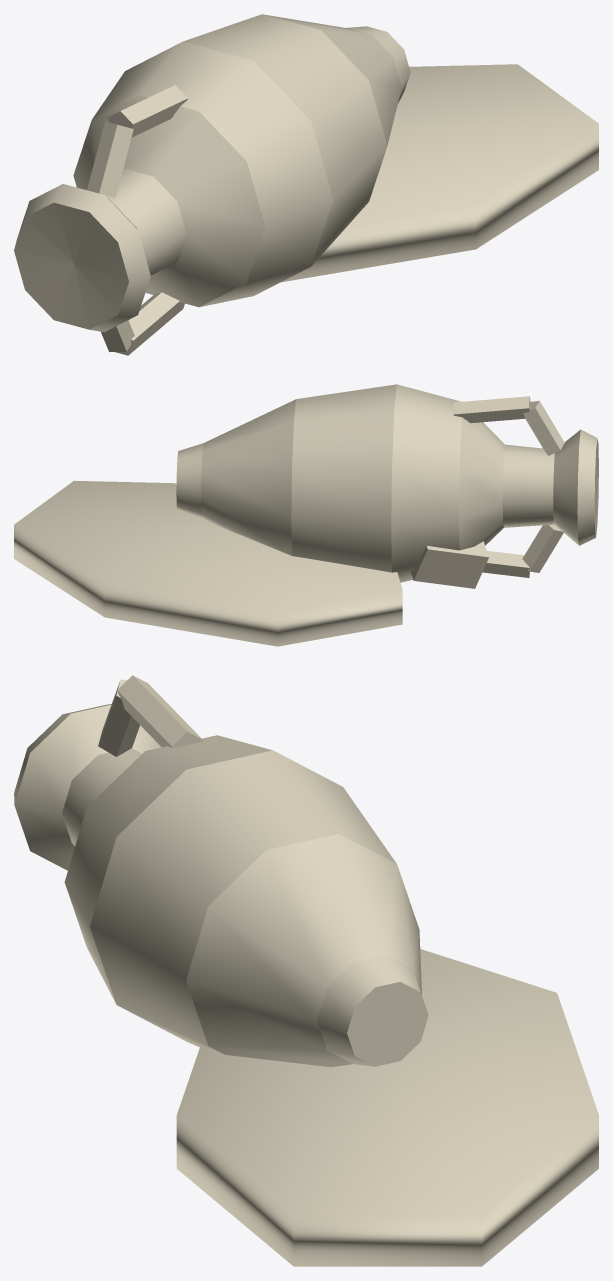
The model's file is sunken-city-and-underwater-ruins-amphora-toppled-55982199__36975.glb.
3 views of the same model, one above another, from view 1: azimuth 30°, elevation 25°; view 2: azimuth 150°, elevation 25°; view 3: azimuth 270°, elevation 25° (orthographic). The views are drawn at different scales.
Visible parts, largest first — view 1: amphora-toppled; view 2: amphora-toppled; view 3: amphora-toppled.
Part boxes in pixels (bbox=[...]): amphora-toppled: bbox=[14, 14, 598, 355]; amphora-toppled: bbox=[14, 384, 598, 646]; amphora-toppled: bbox=[14, 675, 598, 1266].
Bounding box in the file's own units: 1.31 × 0.5179 × 0.8891.
